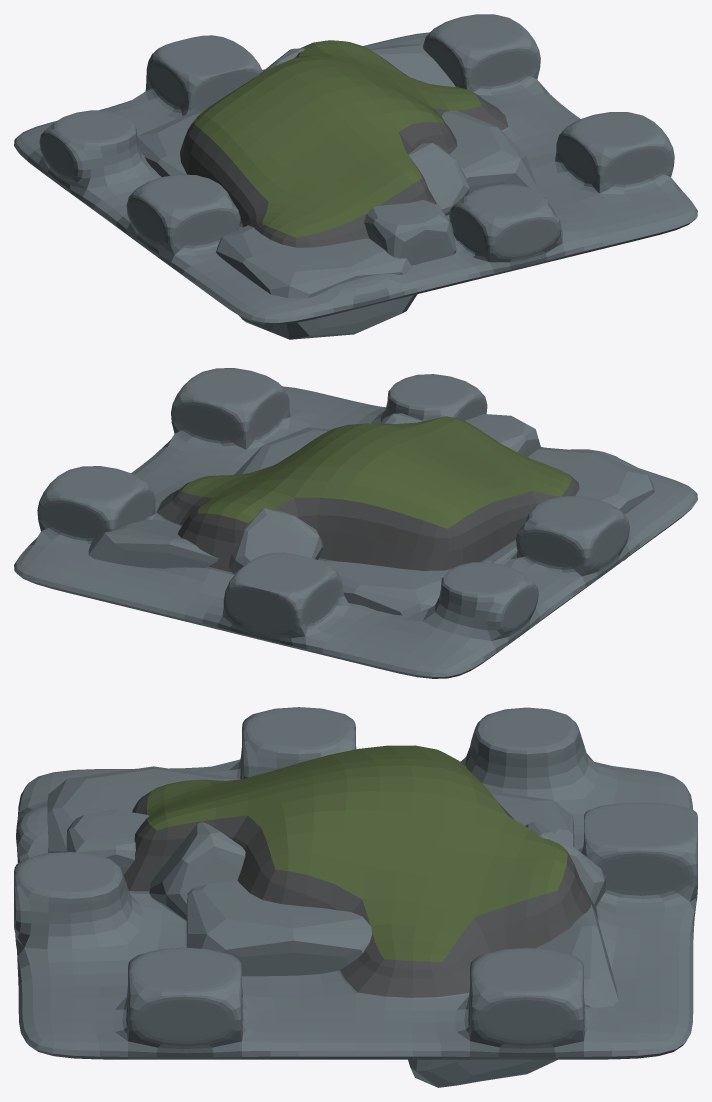
The model's file is maden.fbx.
3 views of the same model, one above another, from view 1: azimuth 30°, elevation 25°; view 2: azimuth 150°, elevation 25°; view 3: azimuth 270°, elevation 25° (orthographic). The views are drawn at different scales.
Visible parts, largest first — view 1: maden; view 2: maden; view 3: maden.
Part boxes in pixels (box(x1,y1,x2,y2)): maden: box(14, 14, 697, 339); maden: box(14, 368, 697, 678); maden: box(14, 707, 697, 1087).
Size of the model in its own units: 1806 by 583 by 1806.
